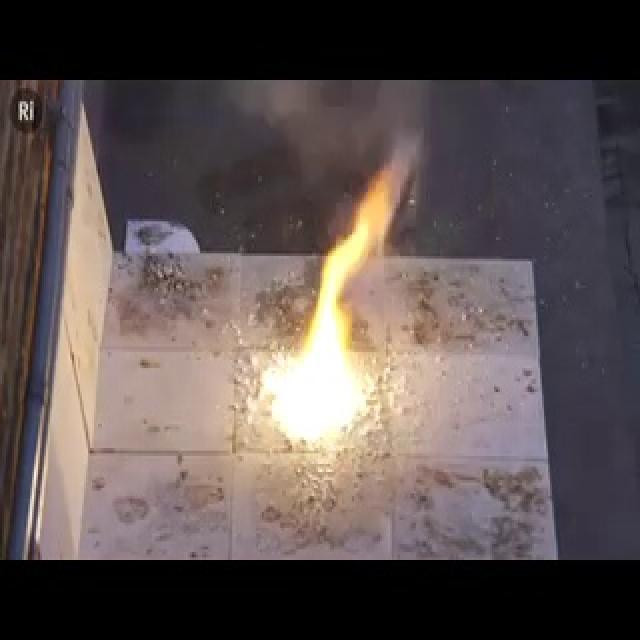fire: (255, 197, 379, 456)
